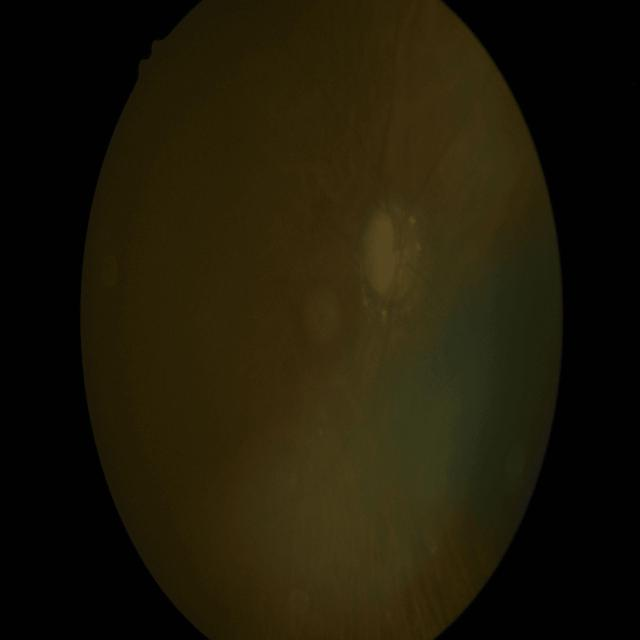cup: (368, 210, 400, 296)
disk: (360, 205, 420, 302)
